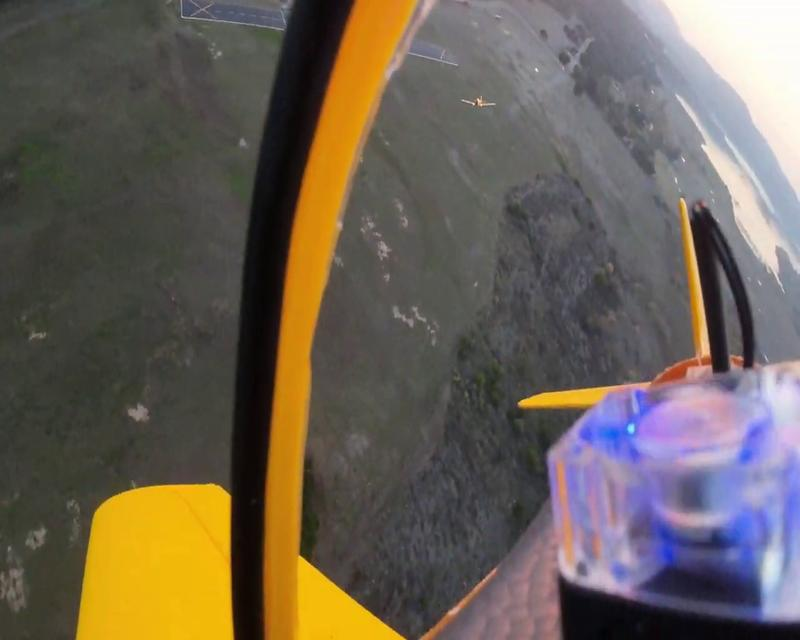UAV: (462, 95, 496, 108)
